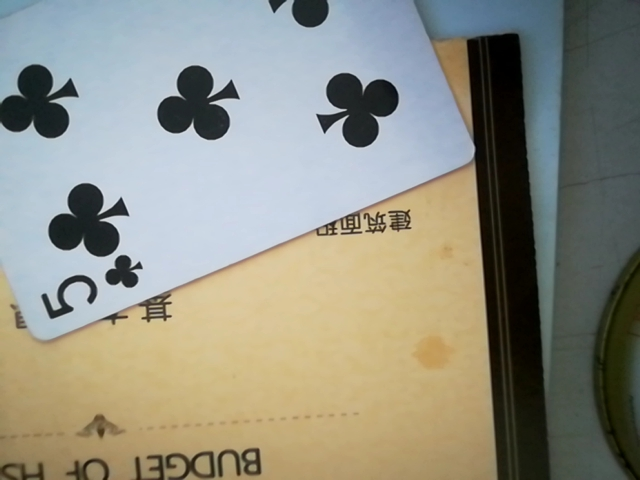mh 5: (2, 4, 482, 340)
